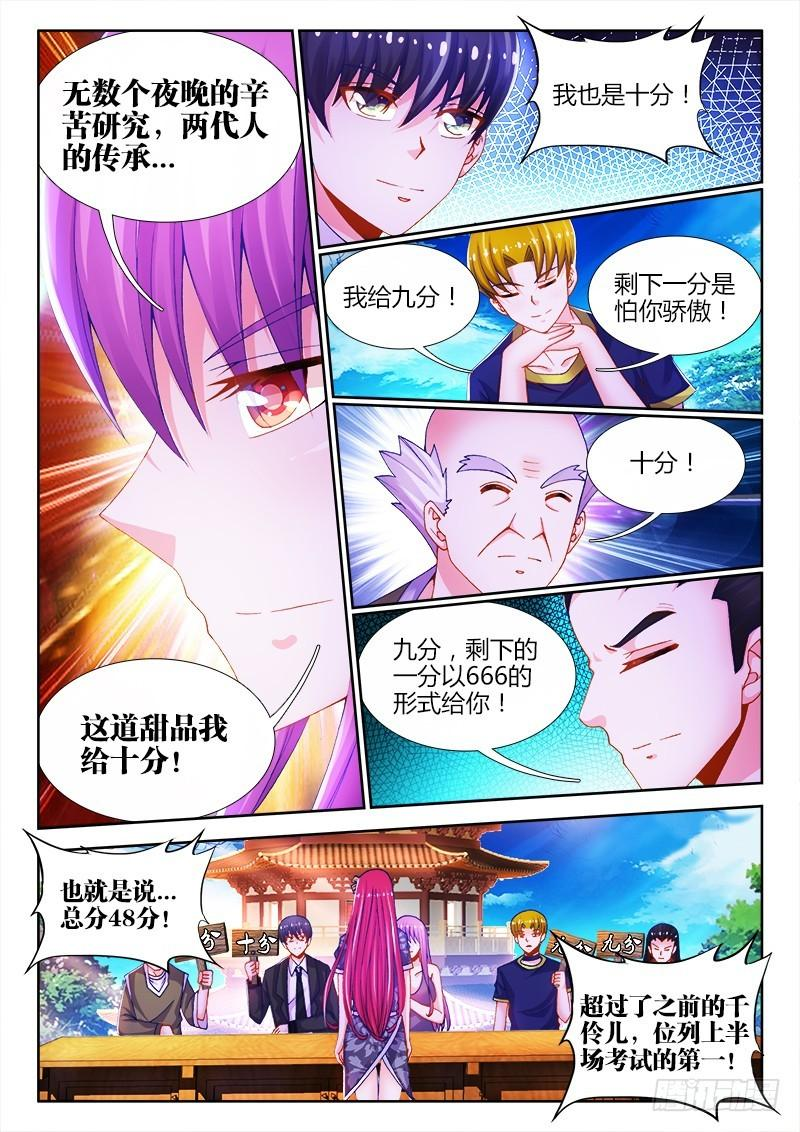boxBomb: (549, 925, 780, 1120), (519, 11, 726, 167), (18, 826, 225, 976)
boxEllipse: (36, 32, 300, 224), (36, 654, 289, 822), (350, 601, 578, 766), (588, 230, 762, 368), (318, 242, 480, 359), (585, 416, 747, 526)
minBox: (33, 26, 366, 829), (30, 838, 768, 1108), (294, 20, 762, 248), (315, 182, 765, 416), (354, 565, 761, 813), (327, 398, 762, 610)
